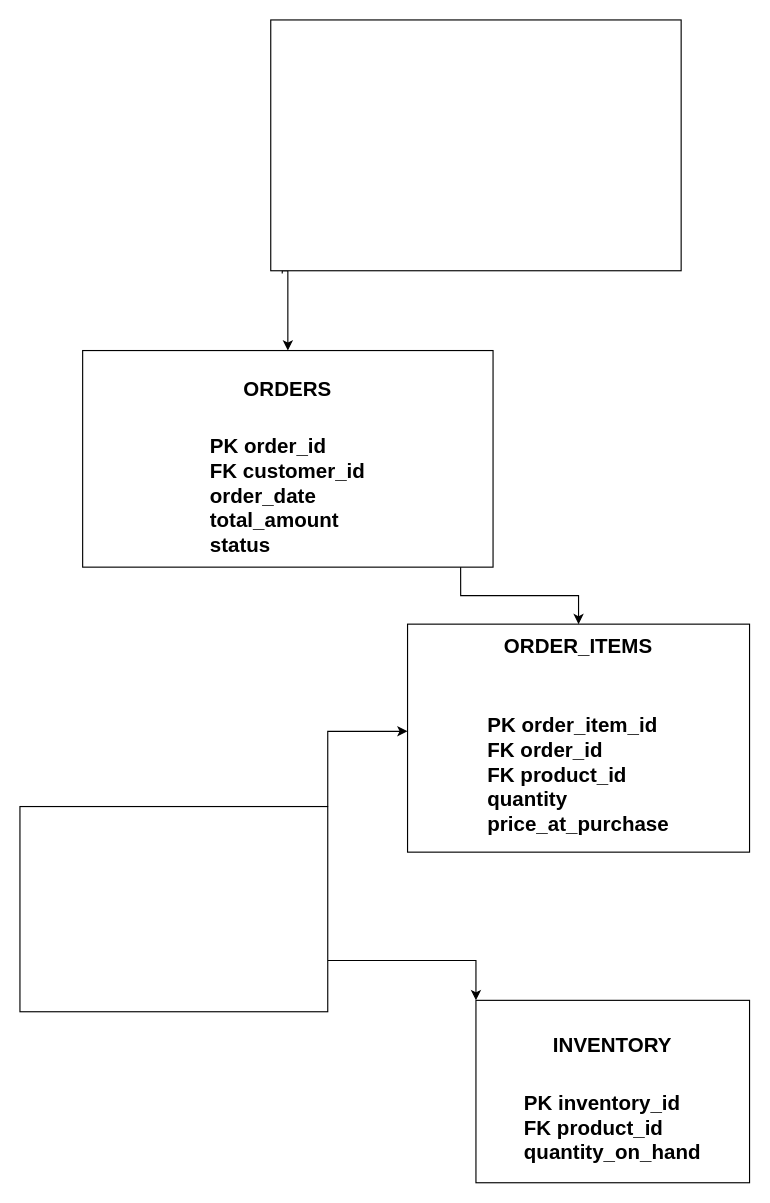
This 770x1203 diagram has some shape labels left out. The centre of each missing label's shape, as x and y in pixels:
CUSTOMERS PK customer_id full_name email phone shipping_address: the point at 475,145
PRODUCTS PK product_id product_name category price: the point at 173,908
